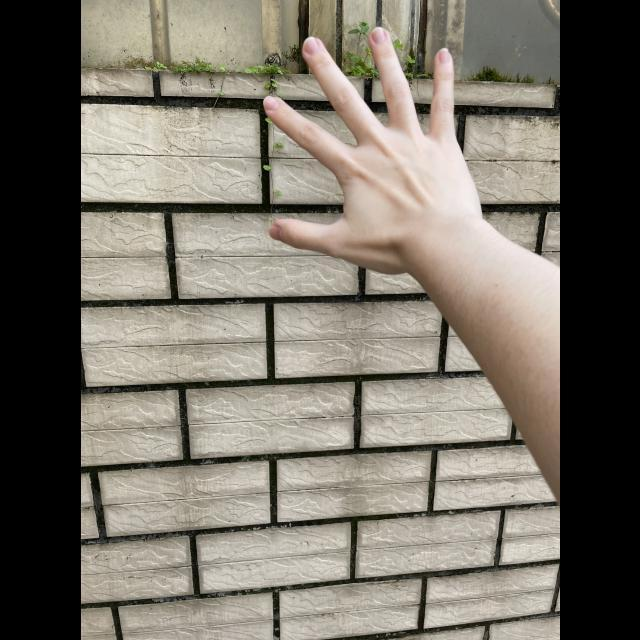bare_hand: (261, 23, 481, 275)
